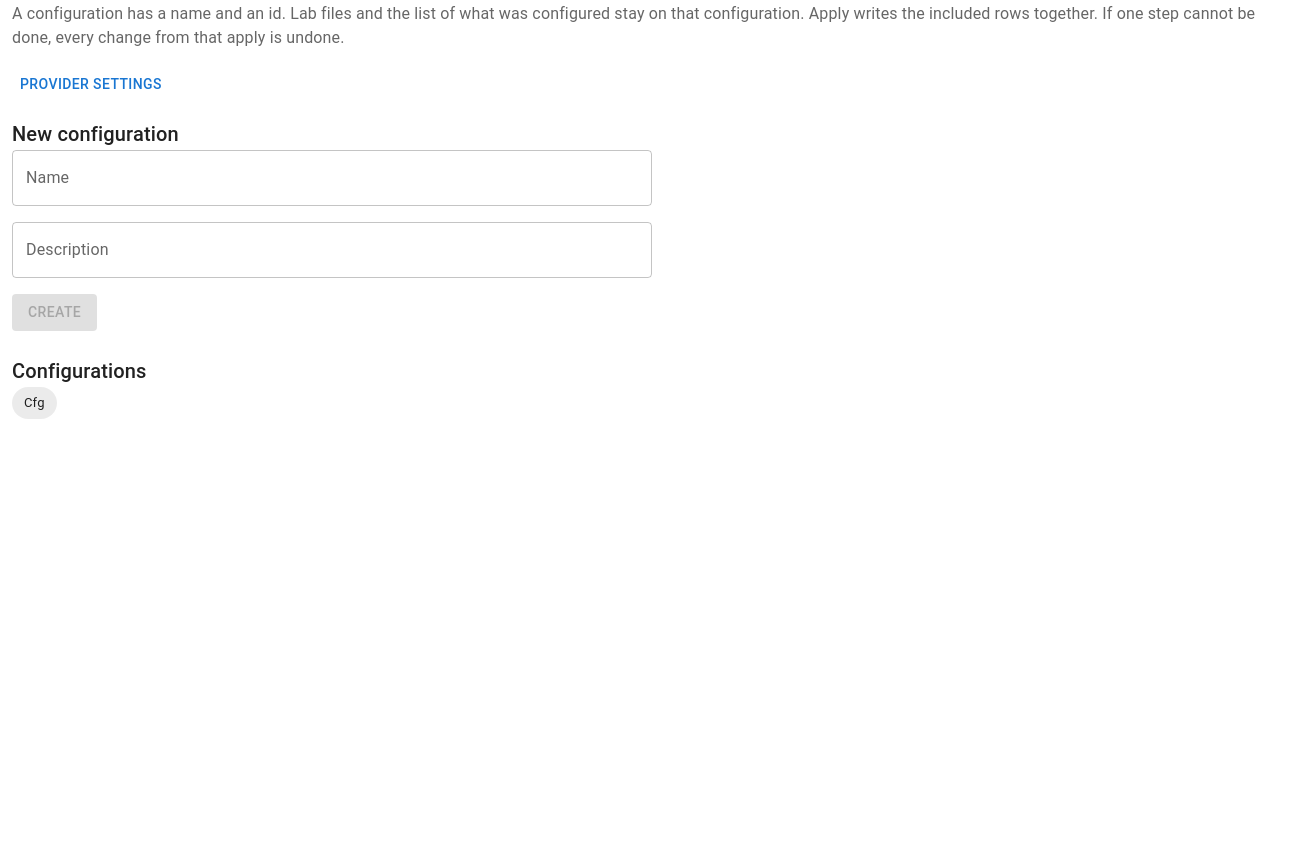
Test: near-matches are shown on the row
The width and height of the screenshot is (1304, 848).
Step 1. Click the button "Cfg" → point(34, 403), box left=12, top=387, right=57, bottom=419
(page scrolled)
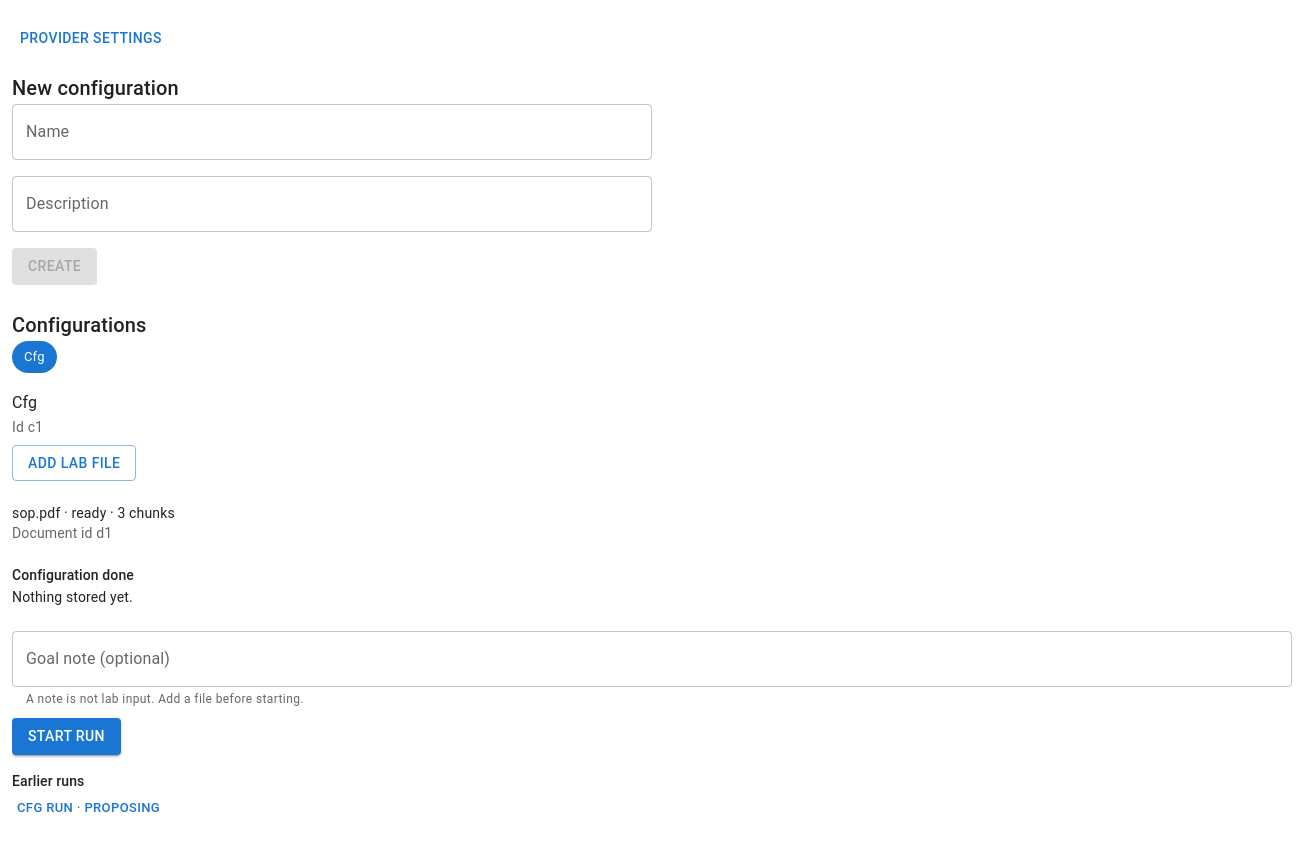
Step 2. Click the button "Cfg run · proposing" → point(89, 808), box left=12, top=793, right=165, bottom=824
(page scrolled)
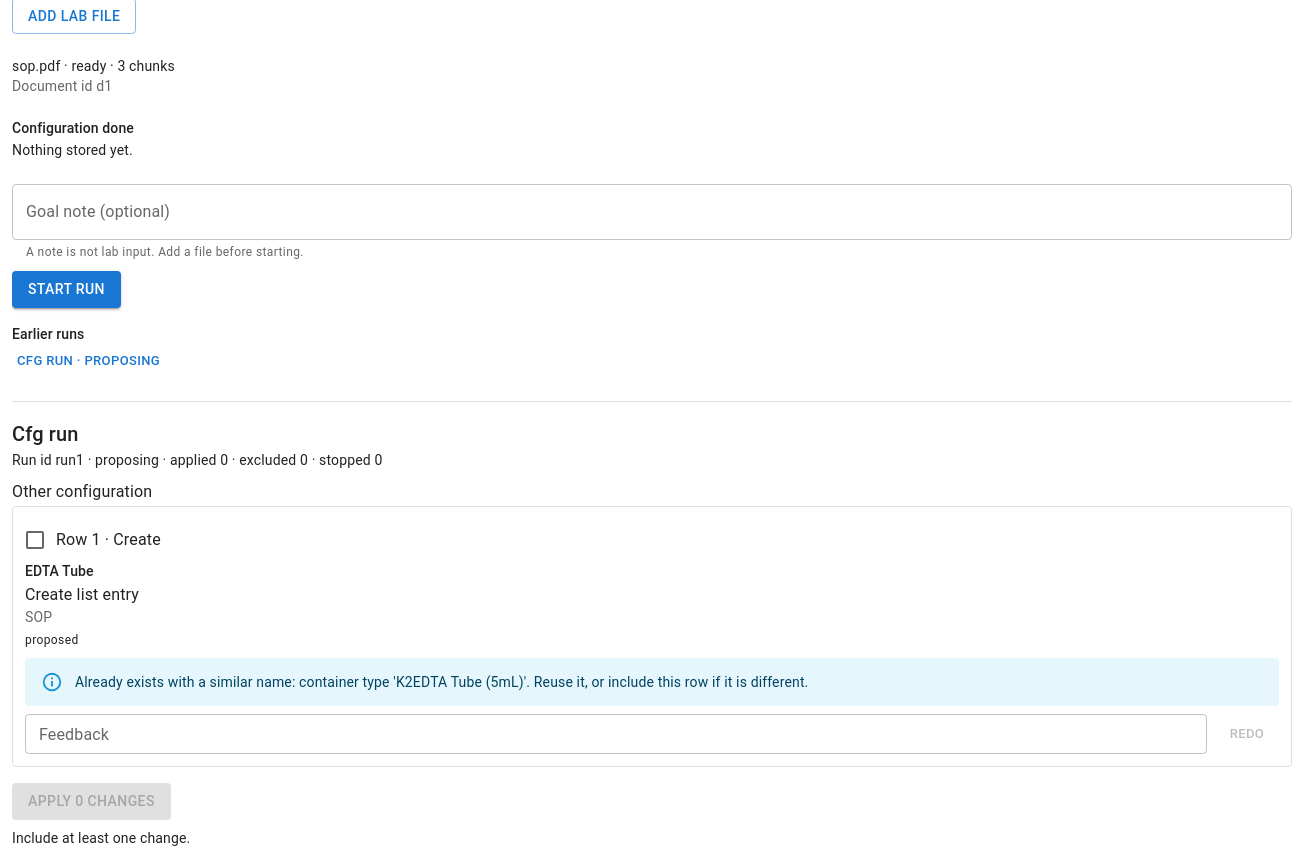
Check: the text "Run id run1 · proposing · applied 0 · excluded 0 · stopped 0" is shown, box left=12, top=452, right=382, bottom=468
Check: the message with test id "near-0" shows "K2EDTA Tube (5mL)", box left=75, top=674, right=808, bottom=690
